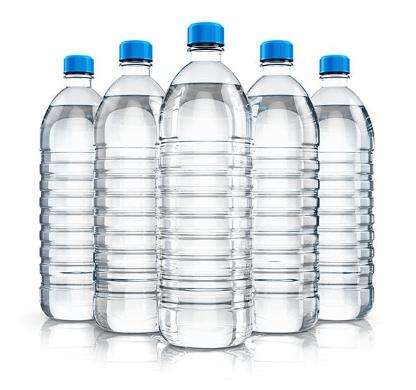Plastic Bottle: (159, 22, 253, 350), (257, 37, 317, 337), (315, 52, 377, 326), (38, 50, 96, 324), (101, 42, 155, 333)
